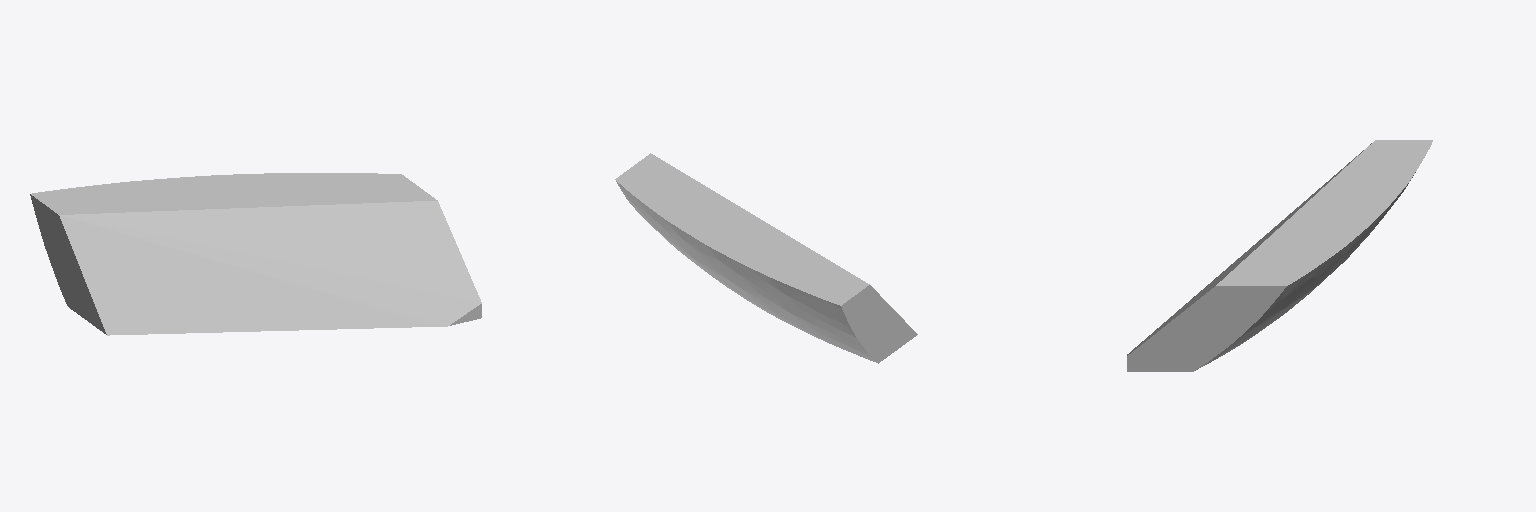
The model's file is pan_collision_21.obj.
3 renders of one model, left to right at view 1: azimuth 30°, elevation 25°; view 2: azimuth 150°, elevation 25°; view 3: azimuth 270°, elevation 25°, orthographic.
Bounding box in the file's own units: 0.0473 × 0.0129 × 0.0419.